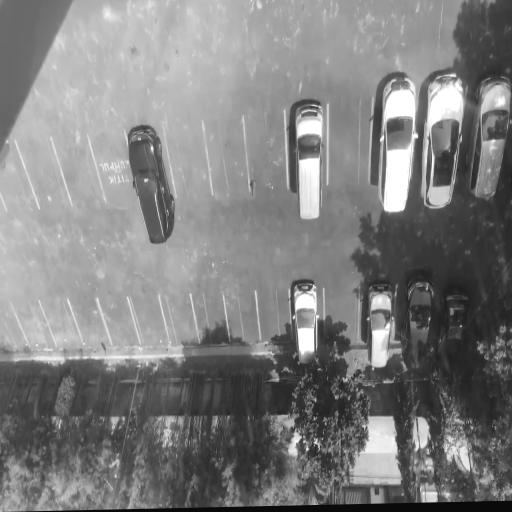Car: (123, 123, 181, 248), (419, 70, 469, 209), (376, 72, 421, 213), (465, 71, 512, 205), (398, 272, 437, 374), (292, 102, 323, 222), (432, 288, 475, 370), (365, 278, 395, 367), (291, 278, 319, 367)
Space Available: (327, 97, 373, 186), (14, 139, 71, 210), (163, 120, 213, 199), (243, 111, 288, 196), (202, 118, 250, 197), (52, 137, 105, 206), (86, 130, 135, 203), (0, 142, 38, 214), (67, 296, 113, 348), (157, 293, 199, 347), (189, 293, 230, 347), (9, 299, 55, 347), (39, 297, 82, 348), (323, 286, 358, 348), (98, 296, 141, 346), (127, 296, 168, 346), (222, 292, 261, 344), (254, 289, 291, 343), (0, 303, 28, 354)
